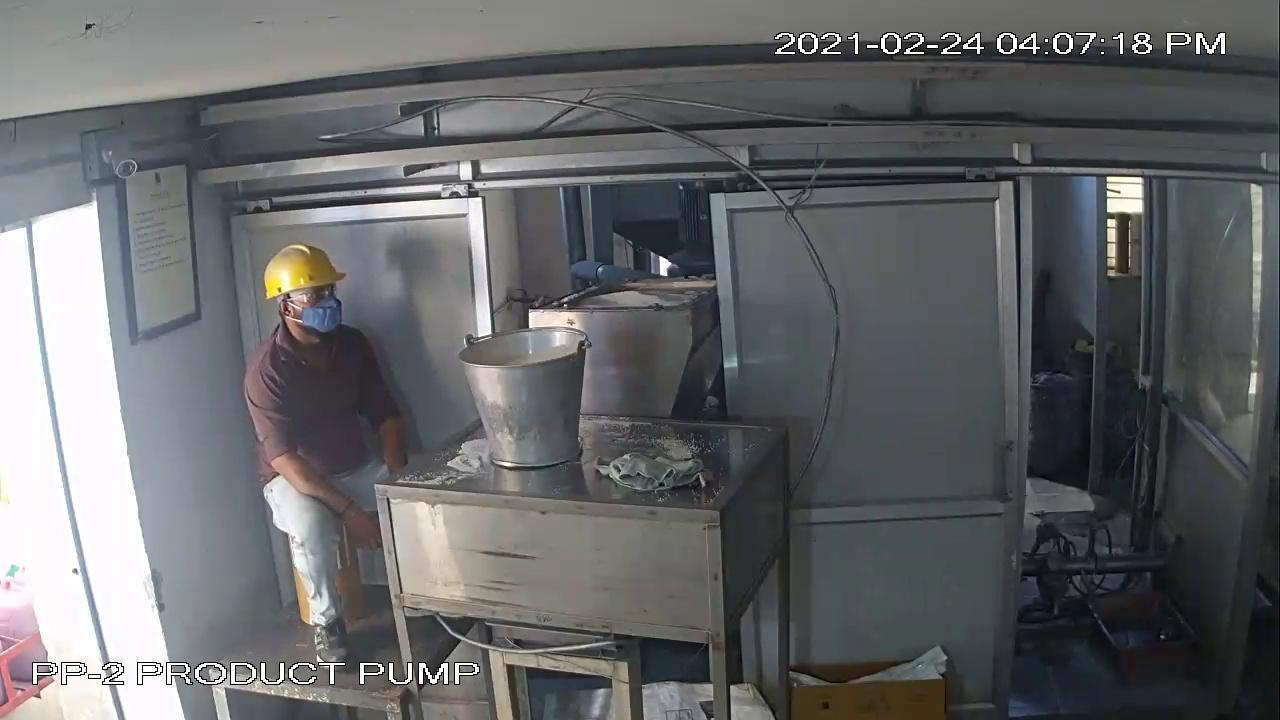helmet: (254, 238, 348, 305)
